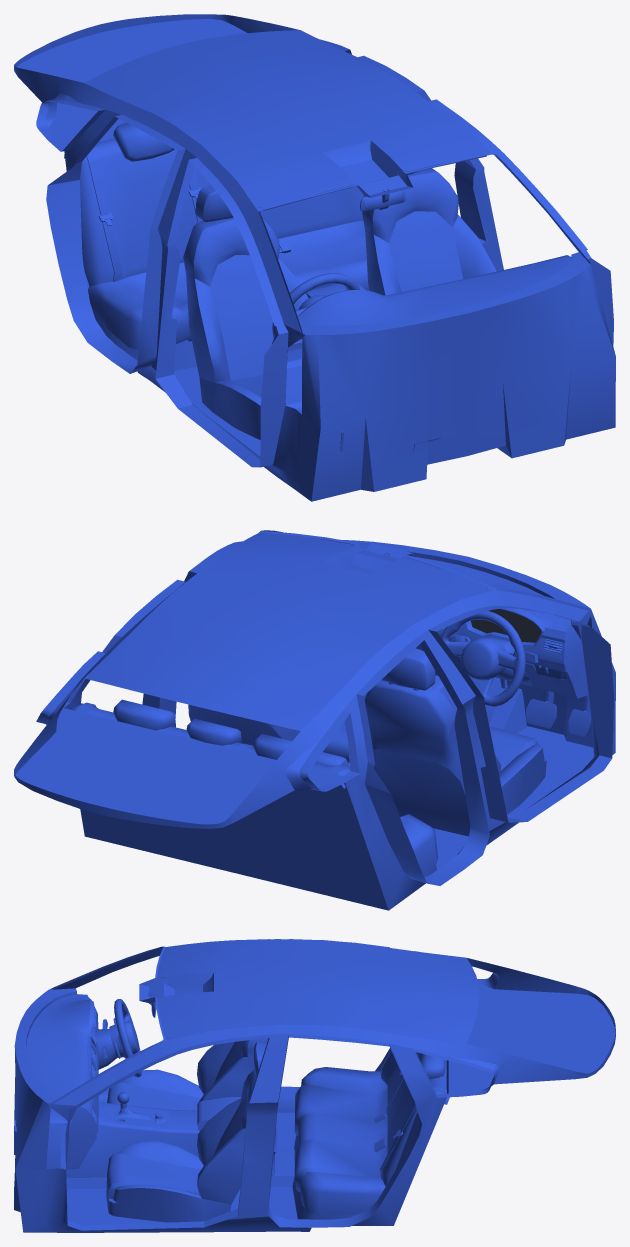
The model's file is RealisticCar02_HD_Interior_RightHanded.FBX.
3 renders of one model, top to bottom at view 1: azimuth 30°, elevation 25°; view 2: azimuth 150°, elevation 25°; view 3: azimuth 270°, elevation 25°, orthographic. The views are drawn at different scales.
Visible parts, largest first — view 1: Car02_Interior_LOD0, Car02_Interior_SteeringWheel_LOD0; view 2: Car02_Interior_LOD0, Car02_Interior_SteeringWheel_LOD0; view 3: Car02_Interior_LOD0, Car02_Interior_SteeringWheel_LOD0.
Part boxes in pixels (x1,y1,x2,y2): Car02_Interior_LOD0: [14, 14, 615, 501]; Car02_Interior_SteeringWheel_LOD0: [272, 273, 359, 337]; Car02_Interior_LOD0: [14, 530, 615, 910]; Car02_Interior_SteeringWheel_LOD0: [441, 611, 525, 706]; Car02_Interior_LOD0: [14, 939, 615, 1232]; Car02_Interior_SteeringWheel_LOD0: [109, 999, 141, 1077].
Size of what is drawn, in the model's own units: 1.82 by 3.27 by 1.16.
